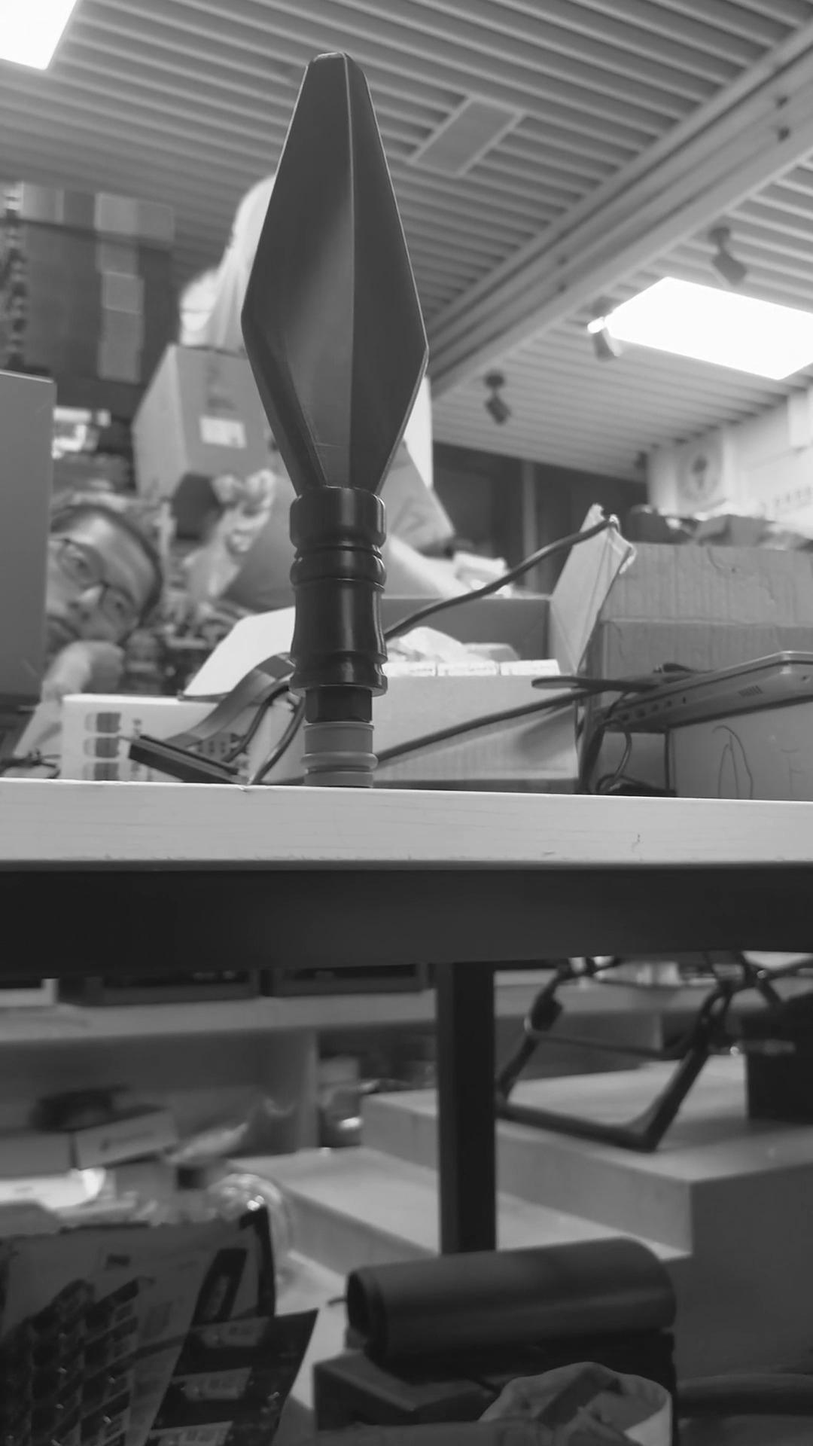base: (296, 711, 386, 798)
